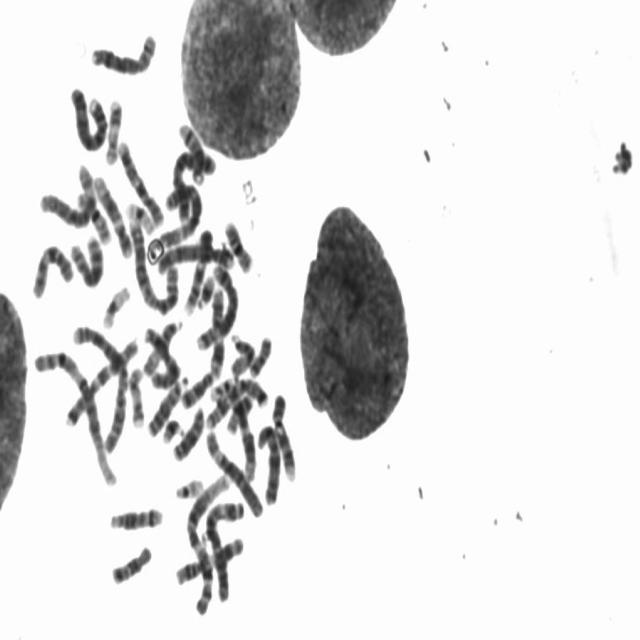A1: (29, 340, 120, 488), (181, 464, 233, 609)
A2: (65, 322, 137, 442), (125, 212, 180, 316)
A3: (197, 492, 246, 607), (142, 174, 205, 261)
B4: (152, 234, 236, 274), (65, 78, 109, 153)
B5: (192, 257, 241, 352), (166, 142, 218, 222)
C10: (113, 133, 165, 229), (26, 234, 75, 301)
C11: (171, 528, 246, 586), (206, 283, 228, 379)
C12: (89, 166, 135, 259), (221, 377, 257, 482)
C6: (200, 421, 266, 519), (34, 155, 96, 230)
C7: (60, 328, 141, 431), (202, 368, 270, 432)
C8: (85, 24, 159, 76), (65, 226, 105, 289)
C9: (180, 220, 214, 315), (268, 386, 298, 484)
D13: (142, 367, 188, 439), (167, 397, 206, 463)
D14: (174, 114, 207, 184), (105, 499, 165, 532)
D15: (140, 313, 184, 378), (226, 326, 257, 380)
E16: (72, 181, 112, 246), (219, 212, 255, 274)
E17: (100, 91, 124, 166), (125, 358, 146, 429)
E18: (106, 536, 154, 586), (177, 363, 217, 409)
F19: (98, 278, 132, 330), (121, 194, 157, 234)
F20: (245, 327, 275, 379), (222, 391, 256, 436)
G21: (192, 265, 217, 311), (158, 409, 185, 445)
G22: (170, 468, 206, 500), (206, 370, 236, 403)
X: (139, 317, 183, 388), (252, 417, 282, 506)
